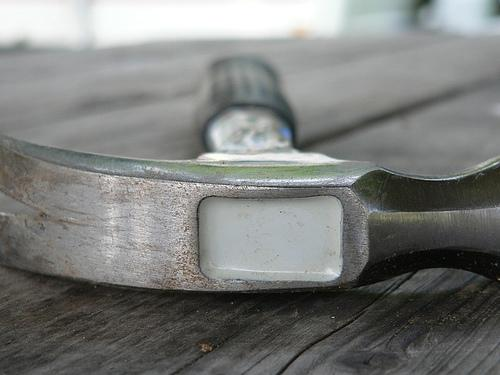hammer: (0, 49, 499, 293)
